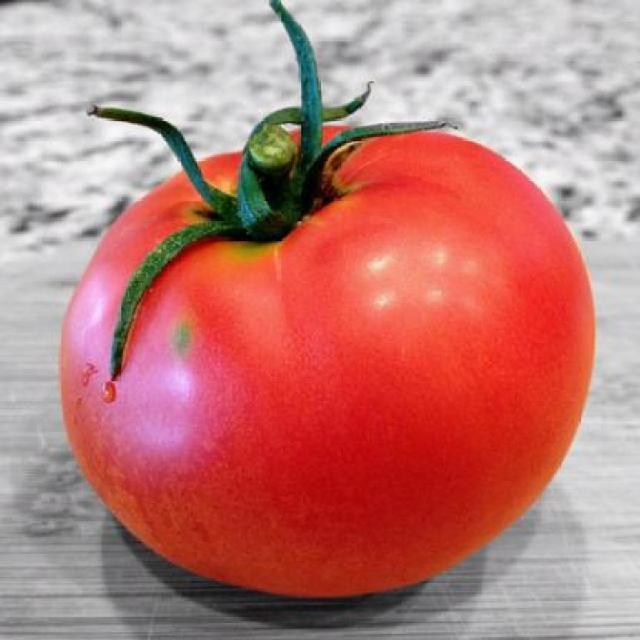Tomato: (47, 0, 596, 600)
